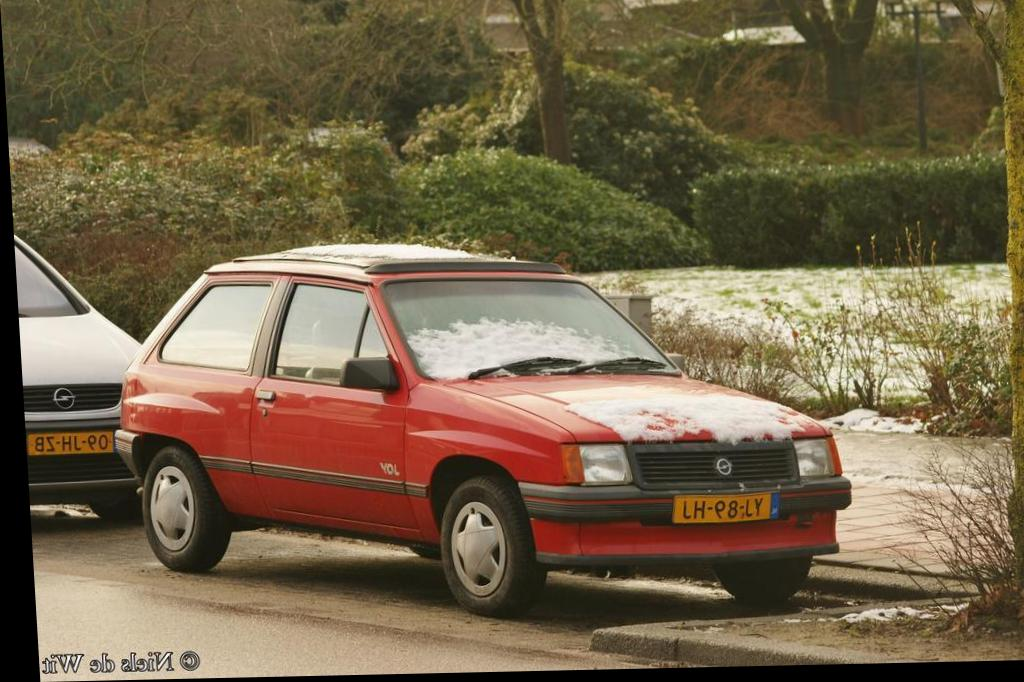License_Plate: (671, 491, 781, 527), (27, 424, 115, 457)
